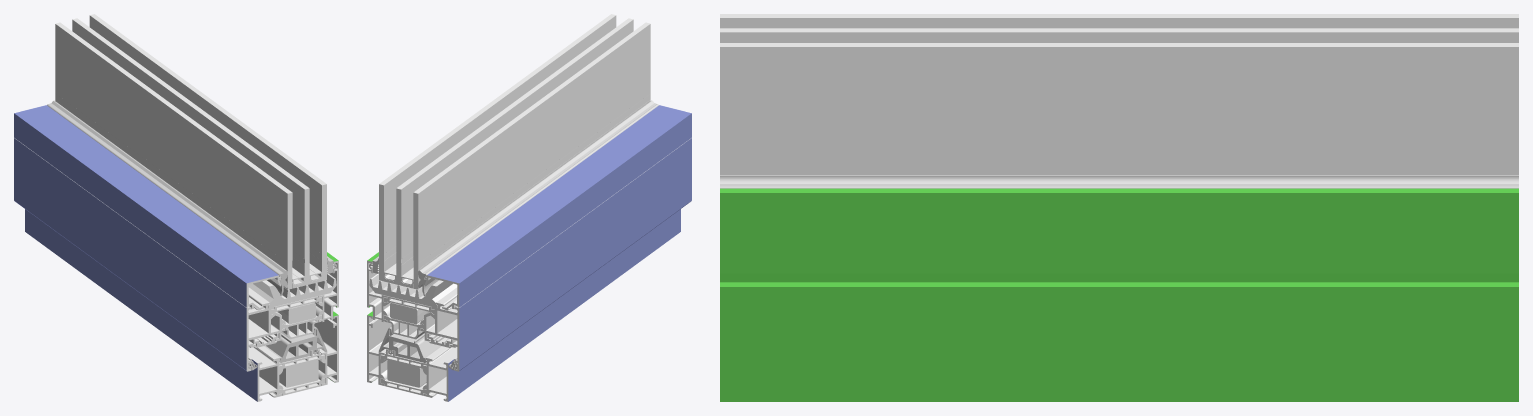
Rendered from aws_75a.glb.
3 views of the same model, side by side, from view 1: azimuth 30°, elevation 25°; view 2: azimuth 150°, elevation 25°; view 3: azimuth 270°, elevation 25° (orthographic). The views are drawn at different scales.
Visible parts, largest first — view 1: aluminium-mat1, glas3, aluminium-Aluminium, gaskets, connectors, block gasket, insulation2, main gasket, kanteT; view 2: aluminium-mat1, glas3, aluminium-Aluminium, gaskets, connectors, insulation2, block gasket, main gasket, kanteT; view 3: aluminium-mat2, glas3, gaskets.
Part boxes in pixels (bbox=[...]): aluminium-mat1: bbox=[14, 105, 278, 401]; glas3: bbox=[55, 14, 326, 289]; aluminium-Aluminium: bbox=[14, 138, 338, 401]; gaskets: bbox=[47, 100, 336, 370]; connectors: bbox=[271, 296, 324, 395]; block gasket: bbox=[248, 273, 336, 308]; insulation2: bbox=[277, 302, 318, 387]; main gasket: bbox=[264, 326, 327, 362]; kanteT: bbox=[292, 263, 321, 285]; aluminium-mat1: bbox=[427, 105, 691, 401]; glas3: bbox=[379, 14, 650, 289]; aluminium-Aluminium: bbox=[367, 138, 691, 401]; gaskets: bbox=[369, 100, 658, 370]; connectors: bbox=[381, 296, 434, 395]; insulation2: bbox=[387, 302, 428, 387]; block gasket: bbox=[369, 273, 457, 308]; main gasket: bbox=[378, 326, 441, 362]; kanteT: bbox=[384, 263, 413, 285]; aluminium-mat2: bbox=[720, 188, 1518, 401]; glas3: bbox=[720, 14, 1518, 174]; gaskets: bbox=[720, 175, 1518, 188].
Size of the model in its own units: 3.76 by 7.81 by 16.37.
